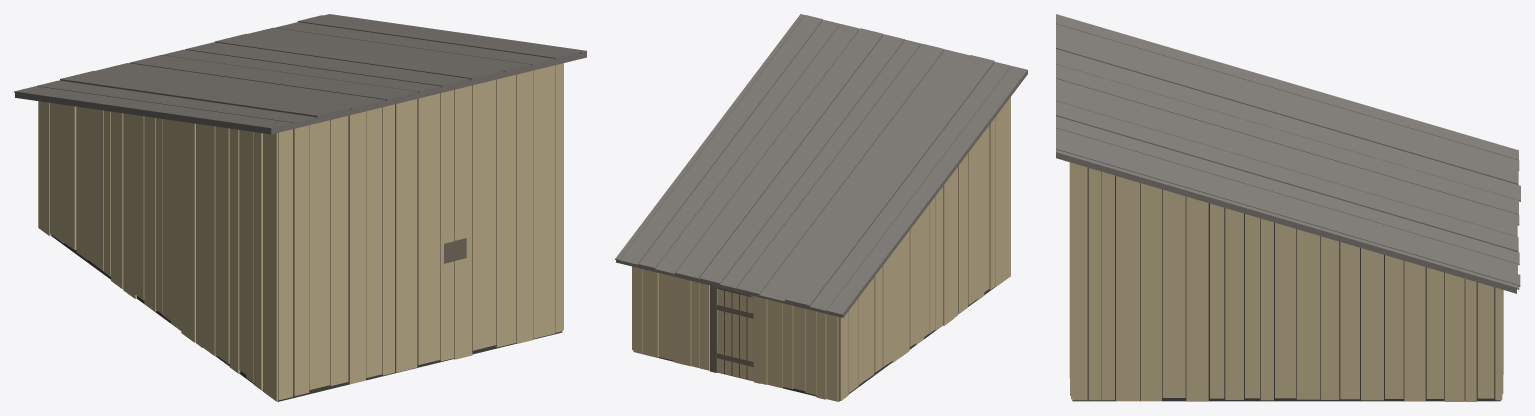
The model's file is recon_1835_north_d2_046__inferred_1835.glb.
3 renders of one model, left to right at view 1: azimuth 30°, elevation 25°; view 2: azimuth 150°, elevation 25°; view 3: azimuth 270°, elevation 25°, orthographic. The views are drawn at different scales.
Parts seen in each view (by area): view 1: recon_1835_north_d2_046__inferred_1835; view 2: recon_1835_north_d2_046__inferred_1835; view 3: recon_1835_north_d2_046__inferred_1835.
Part boxes in pixels (bbox=[...]): recon_1835_north_d2_046__inferred_1835: bbox=[14, 14, 586, 401]; recon_1835_north_d2_046__inferred_1835: bbox=[615, 14, 1027, 401]; recon_1835_north_d2_046__inferred_1835: bbox=[1056, 14, 1520, 401].
Size of the model in its own units: 5.26 by 4.55 by 7.46.
